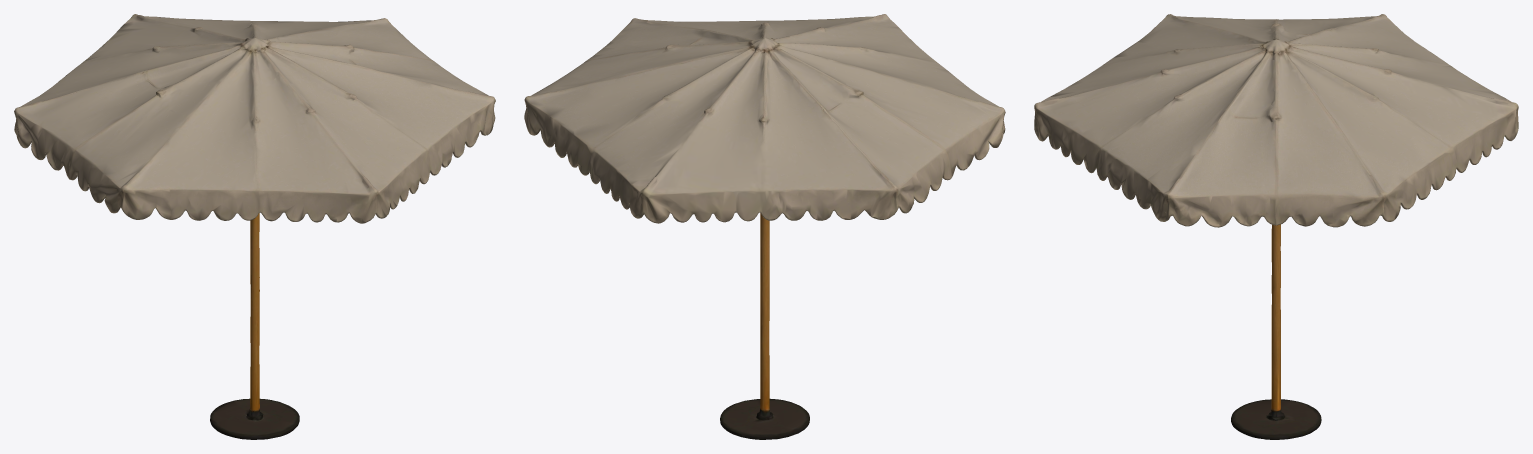
The model's file is parasol.glb.
3 views of the same model, side by side, from view 1: azimuth 30°, elevation 25°; view 2: azimuth 150°, elevation 25°; view 3: azimuth 270°, elevation 25° (orthographic).
Visible parts, largest first — view 1: tripo_node_c5fddceb-880e-443e-9858-cbbeee4b30f0; view 2: tripo_node_c5fddceb-880e-443e-9858-cbbeee4b30f0; view 3: tripo_node_c5fddceb-880e-443e-9858-cbbeee4b30f0.
Part boxes in pixels (box(x1,y1,x2,y2)): tripo_node_c5fddceb-880e-443e-9858-cbbeee4b30f0: box(14, 14, 495, 439); tripo_node_c5fddceb-880e-443e-9858-cbbeee4b30f0: box(524, 14, 1005, 439); tripo_node_c5fddceb-880e-443e-9858-cbbeee4b30f0: box(1034, 14, 1518, 439).
Bounding box in the file's own units: 2.18 × 2.1 × 2.41.
1 material, 1 textured.
